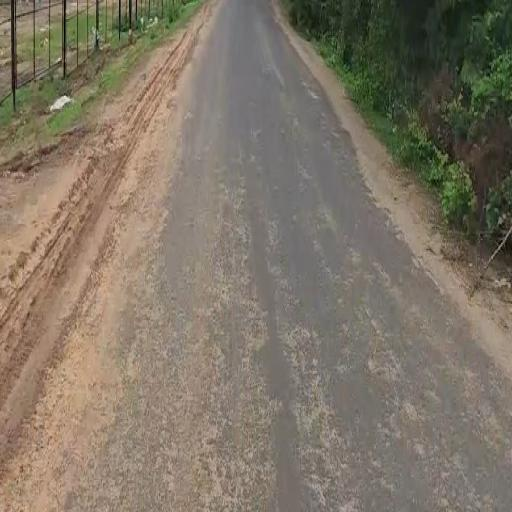ravelling: (24, 208, 405, 491)
